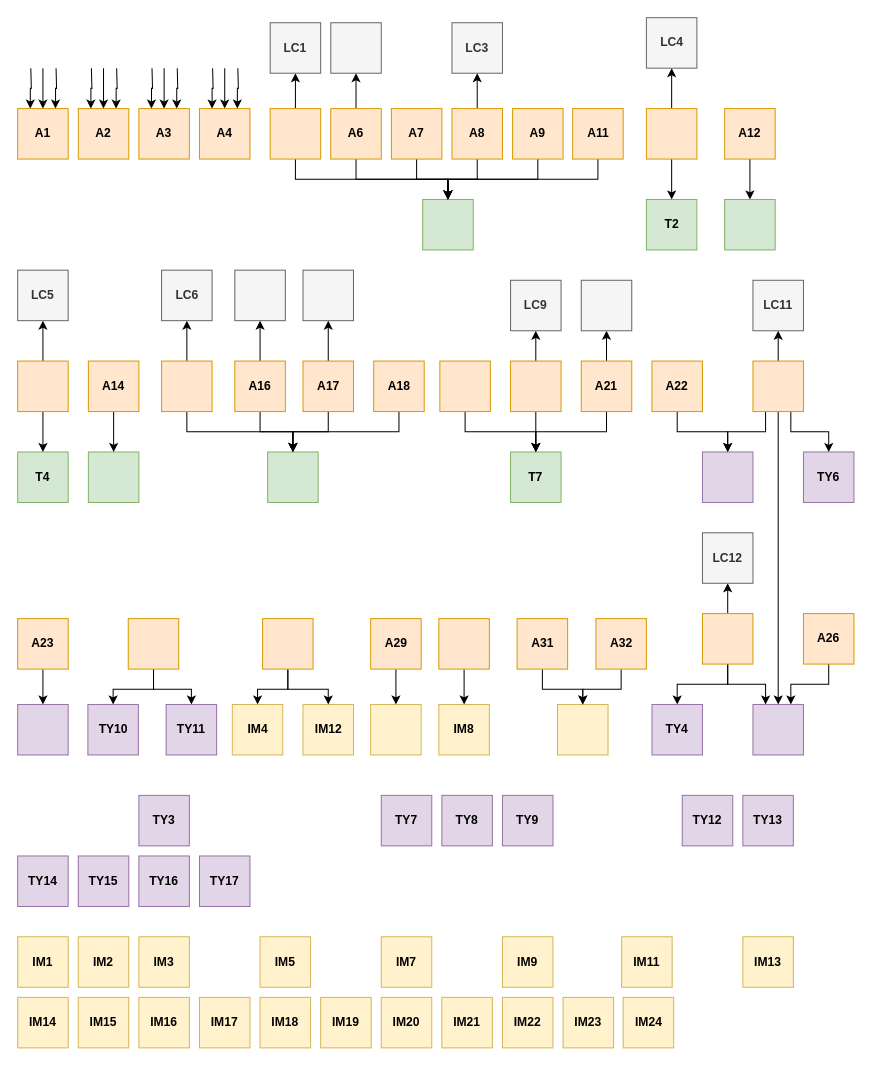
Image size: 872x1066. Some labels were removed from this diagram. The shapes that lost their labels are listed below. From the top down, each one's box as (x1, y1, x2, y2) in pixels, then its label:
(330, 22, 381, 73): LC2
(269, 108, 321, 159): A5
(645, 108, 697, 159): A10
(422, 198, 473, 250): T1
(724, 198, 775, 250): T3
(234, 269, 285, 321): LC7
(302, 269, 354, 321): LC8
(580, 279, 632, 331): LC10
(17, 360, 68, 412): A13
(161, 360, 212, 412): A15
(439, 360, 490, 412): A19
(510, 360, 561, 412): A20
(752, 360, 803, 412): A24
(87, 451, 139, 502): T5
(267, 451, 318, 502): T6
(701, 451, 753, 502): TY1
(127, 618, 179, 669): A27
(262, 618, 313, 669): A28
(438, 618, 489, 669): A30
(701, 613, 753, 664): A25
(17, 703, 68, 755): TY2
(370, 703, 421, 755): IM6
(557, 703, 608, 755): IM10
(752, 703, 803, 755): TY5
